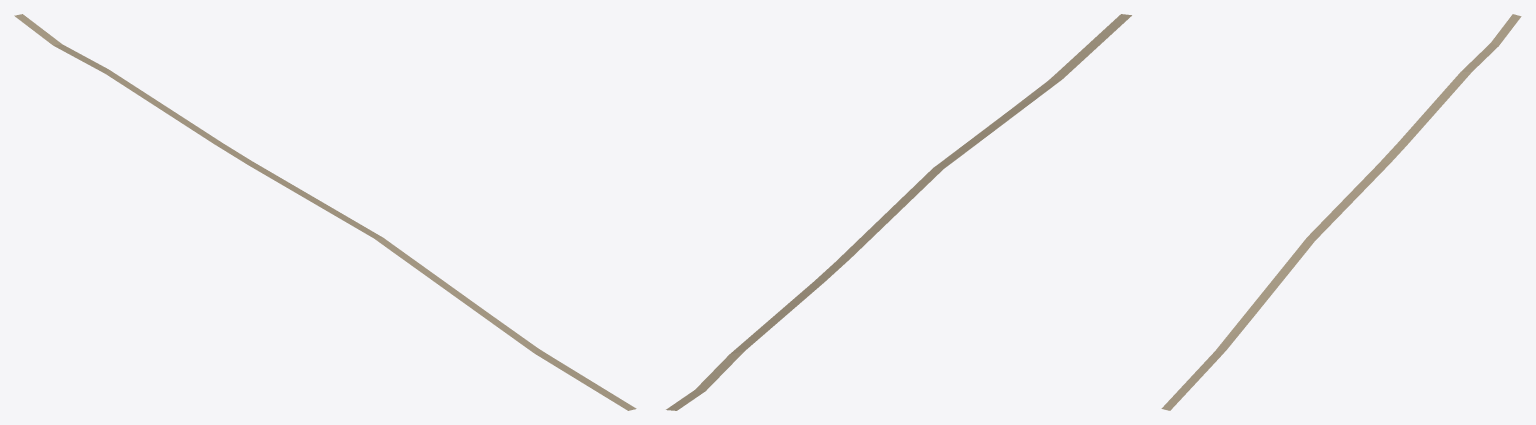
Rendered from farm_-16_-25_track.glb.
The picture shows the model from 3 angles, left to right: view 1: azimuth 30°, elevation 25°; view 2: azimuth 150°, elevation 25°; view 3: azimuth 330°, elevation 25°; orthographic projection. The views are drawn at different scales.
Visible parts, largest first — view 1: geometry_0; view 2: geometry_0; view 3: geometry_0.
Boxes of the visible parts, x1,y1,x2,y2 form: geometry_0: (14, 14, 636, 410); geometry_0: (666, 14, 1131, 410); geometry_0: (1161, 14, 1521, 410).
Bounding box in the file's own units: 40.88 × 17.16 × 306.
